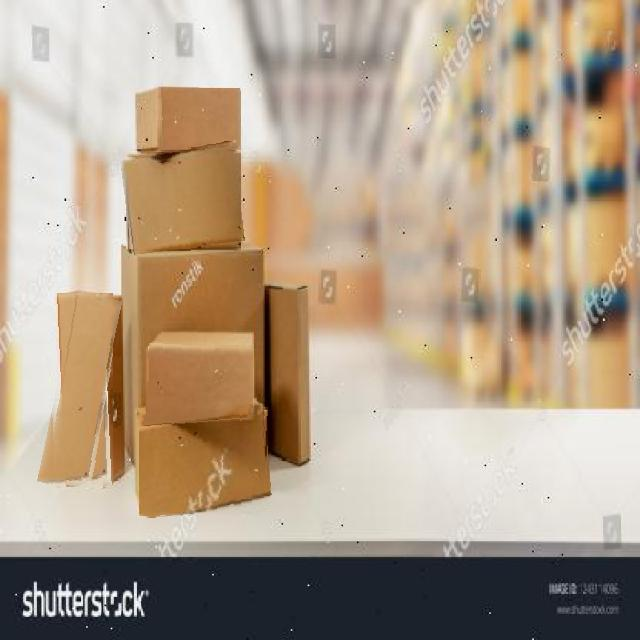BoxFace: (139, 406, 270, 516), (47, 293, 113, 490), (123, 148, 243, 252), (147, 345, 253, 421), (158, 88, 240, 152)
